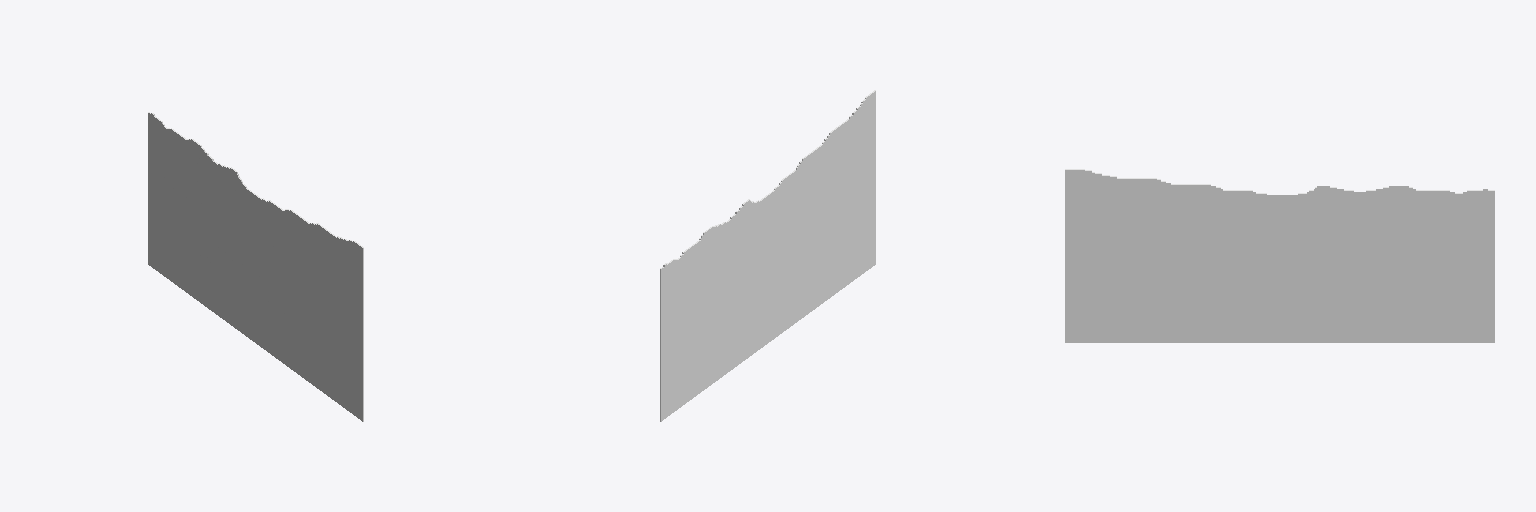
File: BackgroundLayer1.obj
The picture shows the model from 3 angles: view 1: azimuth 30°, elevation 25°; view 2: azimuth 150°, elevation 25°; view 3: azimuth 270°, elevation 25°; orthographic projection.
Visible parts, largest first — view 1: object 1; view 2: object 1; view 3: object 1.
Part boxes in pixels (bbox=[...]): object 1: bbox=[148, 112, 363, 421]; object 1: bbox=[660, 90, 875, 421]; object 1: bbox=[1065, 169, 1494, 342].
Bounding box in the file's own units: 0.1 × 11.4 × 25.6.